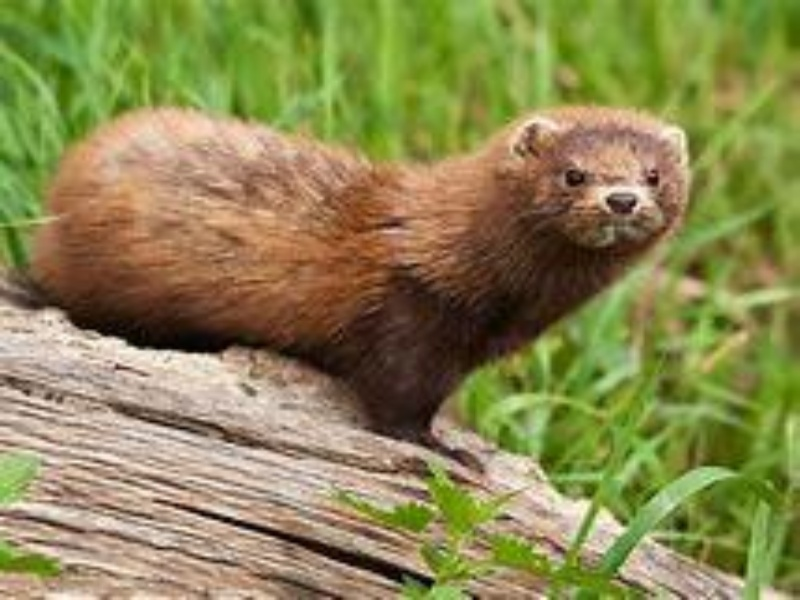minkish: (24, 97, 698, 475)
